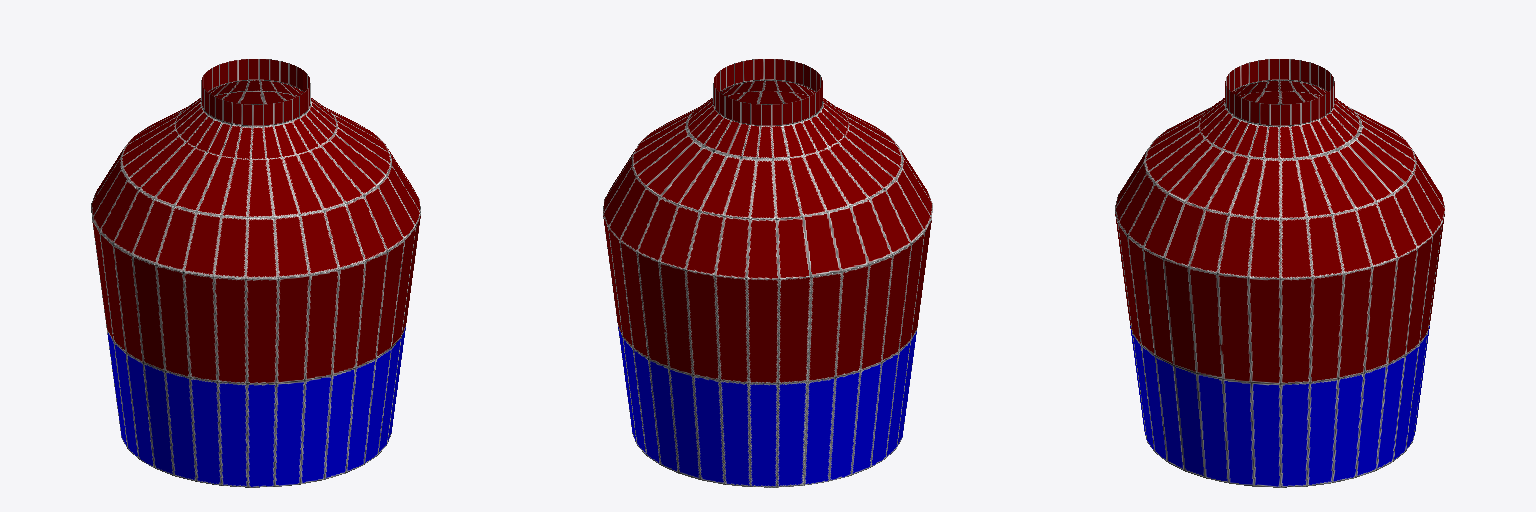
The picture shows the model from 3 angles: view 1: azimuth 30°, elevation 25°; view 2: azimuth 150°, elevation 25°; view 3: azimuth 270°, elevation 25°; orthographic projection.
Visible parts, largest first — view 1: Circle; view 2: Circle; view 3: Circle.
Boxes of the visible parts, box(x1,y1,x2,y2) form: Circle: box(91, 59, 420, 487); Circle: box(603, 59, 932, 487); Circle: box(1115, 59, 1444, 487).
Size of the model in its own units: 2.23 by 2.6 by 2.23.
1 materials, 1 textured.